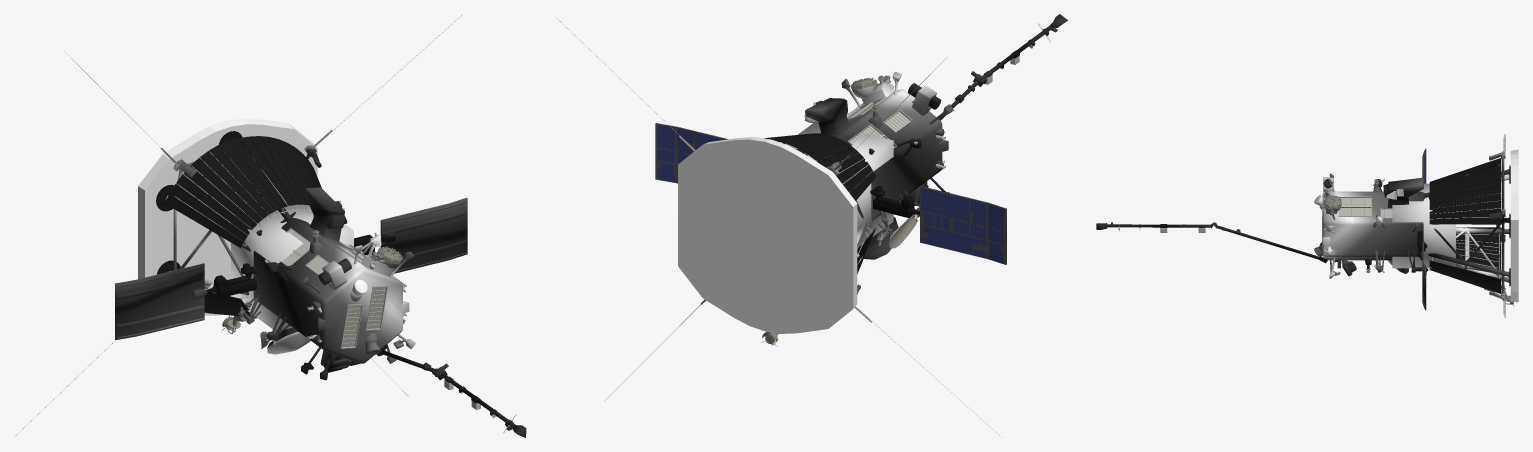
File: parker.glb
The picture shows the model from 3 angles, left to right: view 1: azimuth 30°, elevation 25°; view 2: azimuth 150°, elevation 25°; view 3: azimuth 270°, elevation 25°; orthographic projection. The views are drawn at different scales.
Visible parts, largest first — view 1: BUS, CoolingSystem, Instruments, _root, magnetometers, solarArray_arms, HGA; view 2: Instruments, BUS, CoolingSystem, _root, magnetometers, solarArray_arms; view 3: BUS, CoolingSystem, _root, Instruments, magnetometers.
Boxes of the visible parts, x1=… form: BUS: x1=115, y1=143, x2=526, y2=437; CoolingSystem: x1=156, y1=131, x2=321, y2=317; Instruments: x1=115, y1=118, x2=466, y2=348; _root: x1=231, y1=203, x2=353, y2=331; magnetometers: x1=15, y1=14, x2=516, y2=435; solarArray_arms: x1=206, y1=234, x2=381, y2=297; HGA: x1=267, y1=331, x2=310, y2=354; Instruments: x1=655, y1=77, x2=1006, y2=346; BUS: x1=656, y1=14, x2=1067, y2=294; CoolingSystem: x1=764, y1=133, x2=875, y2=273; _root: x1=785, y1=121, x2=893, y2=247; magnetometers: x1=556, y1=17, x2=1050, y2=437; solarArray_arms: x1=870, y1=186, x2=919, y2=217; BUS: x1=1096, y1=148, x2=1509, y2=310; CoolingSystem: x1=1429, y1=158, x2=1510, y2=293; _root: x1=1392, y1=183, x2=1455, y2=268; Instruments: x1=1323, y1=134, x2=1518, y2=317; magnetometers: x1=1118, y1=165, x2=1511, y2=304.
Size of the model in its own units: 5.75 by 5.26 by 6.61.
6 materials, 2 textured.
